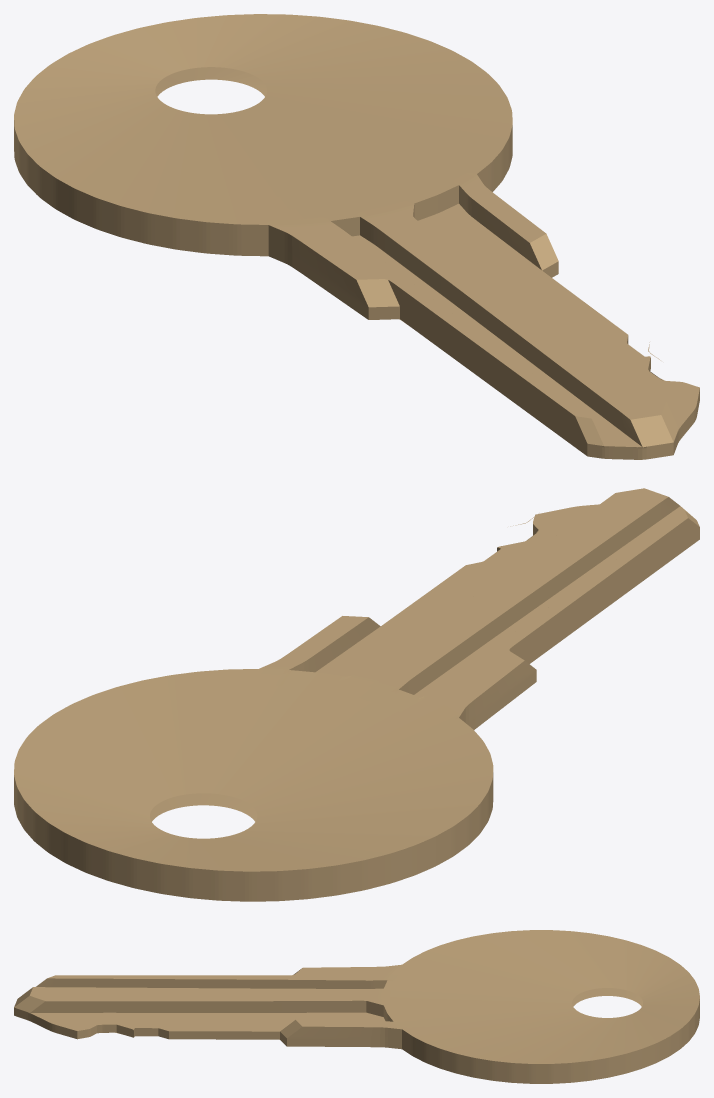
File: kunci.fbx
3 renders of one model, top to bottom at view 1: azimuth 30°, elevation 25°; view 2: azimuth 150°, elevation 25°; view 3: azimuth 270°, elevation 25°, orthographic. The views are drawn at different scales.
Visible parts, largest first — view 1: Circle; view 2: Circle; view 3: Circle.
Part boxes in pixels (left/top/right/bottom): Circle: left=14, top=14, right=699, bottom=459; Circle: left=14, top=488, right=699, bottom=901; Circle: left=14, top=930, right=699, bottom=1083.
Bounding box in the file's own units: 36.76 × 2.55 × 79.55.
